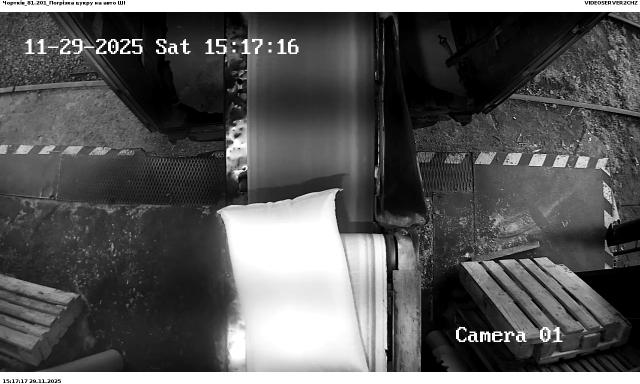bag: (216, 188, 372, 372)
